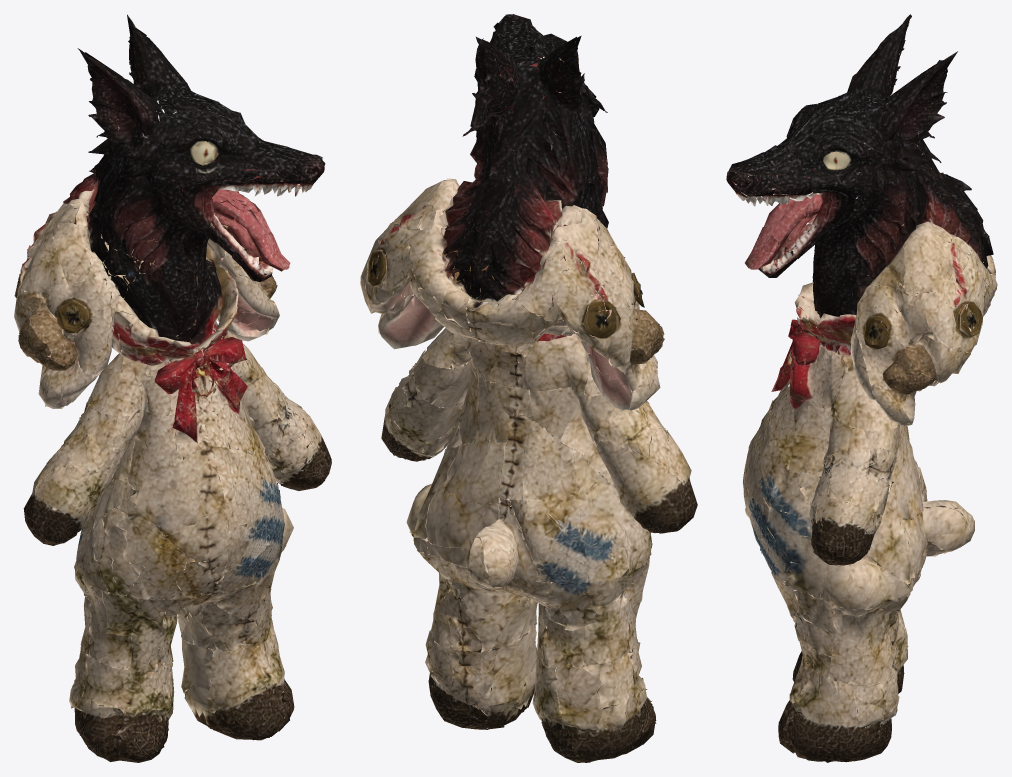
The model's file is agnello_lupo.glb.
3 views of the same model, side by side, from view 1: azimuth 30°, elevation 25°; view 2: azimuth 150°, elevation 25°; view 3: azimuth 270°, elevation 25° (orthographic). The views are drawn at different scales.
Visible parts, largest first — view 1: agnello_lupo; view 2: agnello_lupo; view 3: agnello_lupo.
Part boxes in pixels (x1=…): agnello_lupo: x1=14, y1=14, x2=331, y2=762; agnello_lupo: x1=360, y1=14, x2=697, y2=762; agnello_lupo: x1=726, y1=14, x2=997, y2=762.
Size of the model in its own units: 0.6068 by 1.36 by 0.4934.
Materials: 1 (1 with a texture image).
